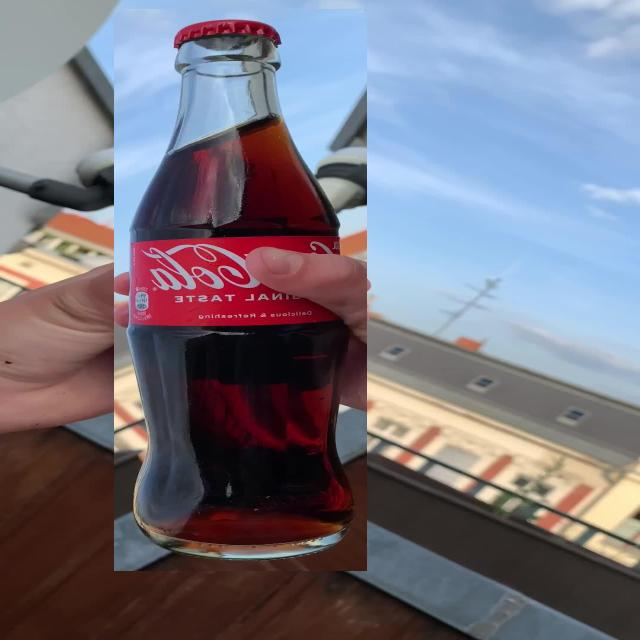coca-cola: (114, 9, 367, 571)
